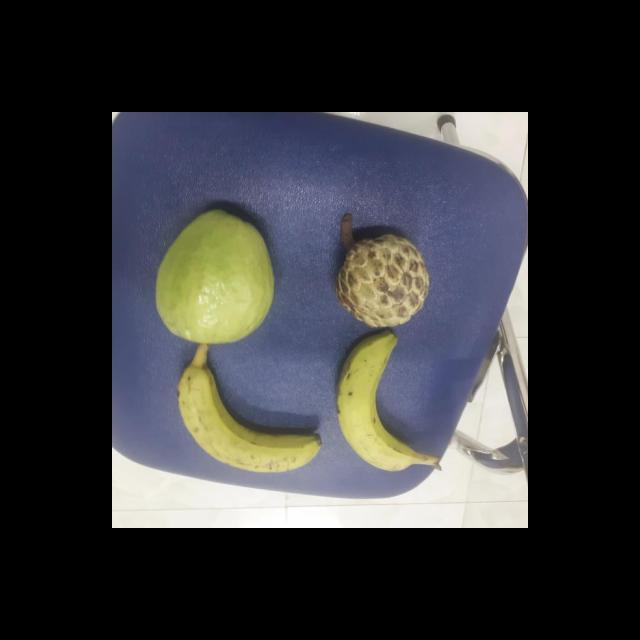Sakya fruit: (336, 232, 432, 331)
banana: (172, 352, 326, 470), (334, 329, 432, 477)
guava: (150, 208, 286, 348)
